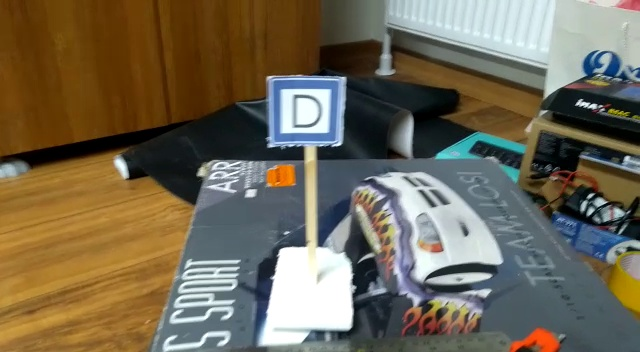durak: (269, 80, 345, 143)
